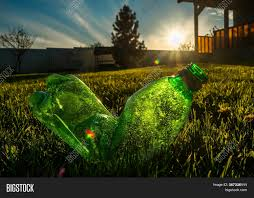plastic_bottle: (27, 61, 205, 166)
